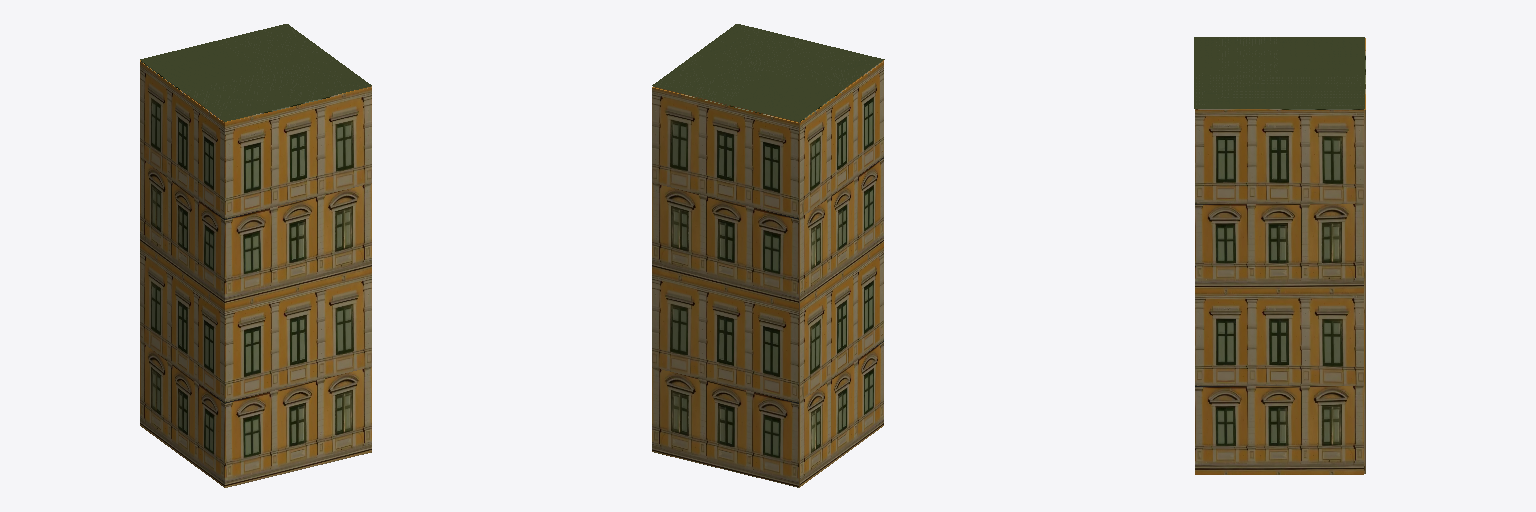
3 views of the same model, side by side, from view 1: azimuth 30°, elevation 25°; view 2: azimuth 150°, elevation 25°; view 3: azimuth 270°, elevation 25° (orthographic).
Parts seen in each view (by area): view 1: Edificio_SinDiseno4:polySurface4; view 2: Edificio_SinDiseno4:polySurface4; view 3: Edificio_SinDiseno4:polySurface4.
Boxes of the visible parts, x1,y1,x2,y2 form: Edificio_SinDiseno4:polySurface4: [140, 24, 371, 487]; Edificio_SinDiseno4:polySurface4: [652, 24, 884, 487]; Edificio_SinDiseno4:polySurface4: [1194, 37, 1365, 474].
Size of the model in its own units: 3.87 by 9.18 by 3.88.
Materials: 1 (1 with a texture image).